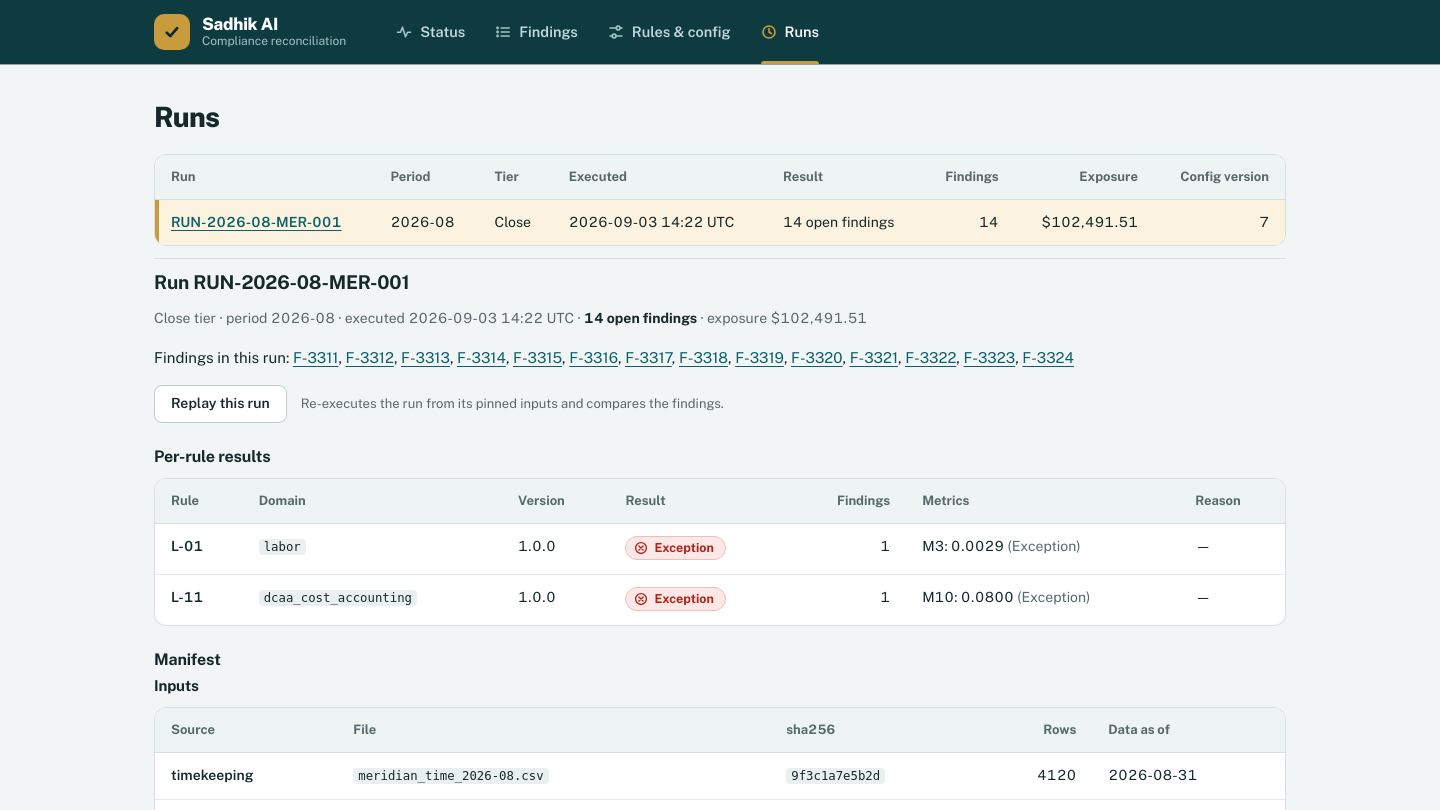
Test case: runs › replays a run and reports identical true
Click the button "Replay this run".
click(220, 404)  # box [154, 385, 287, 423]
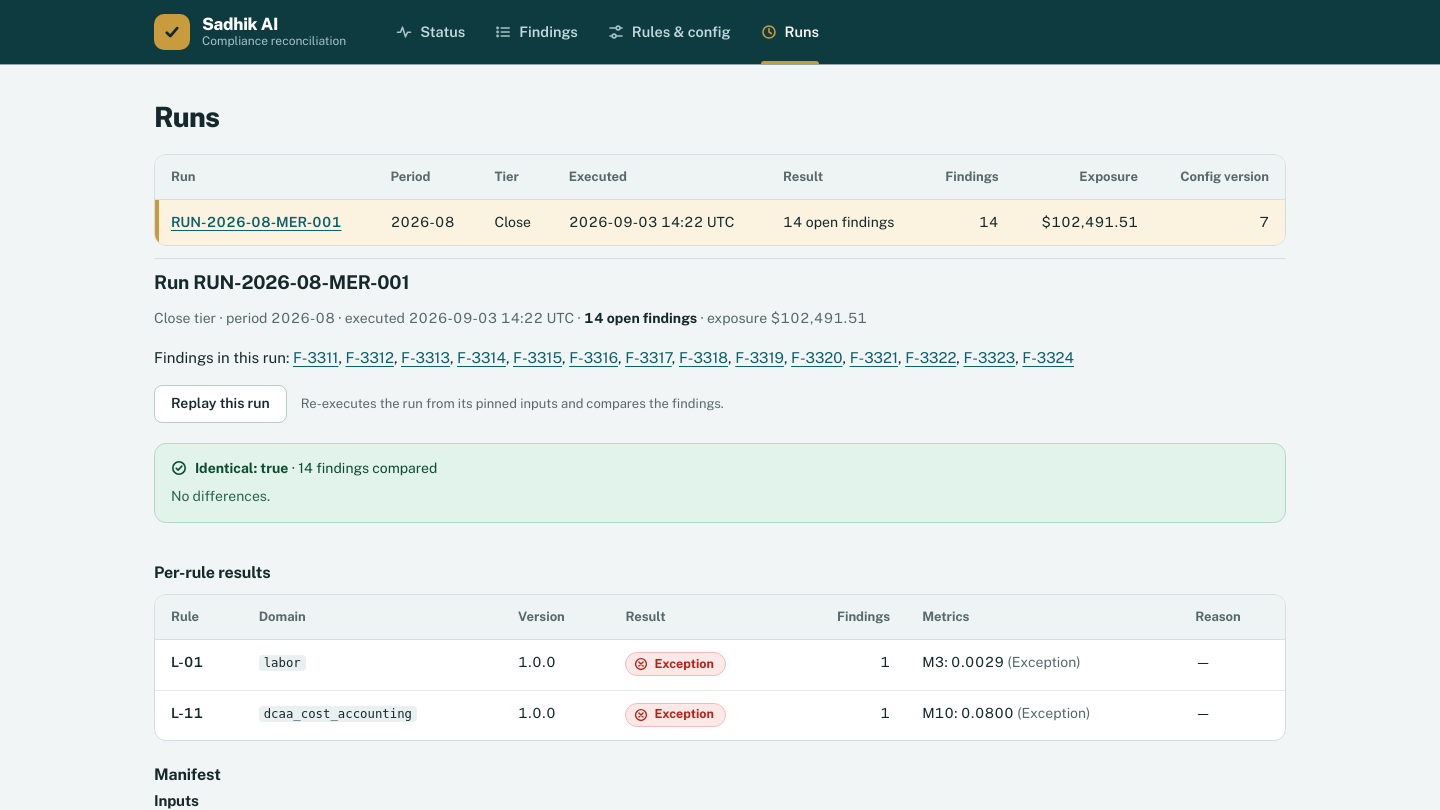
expect the text "Identical: true · 14 findings compared No differences." is shown: met, box [154, 443, 1286, 523]
